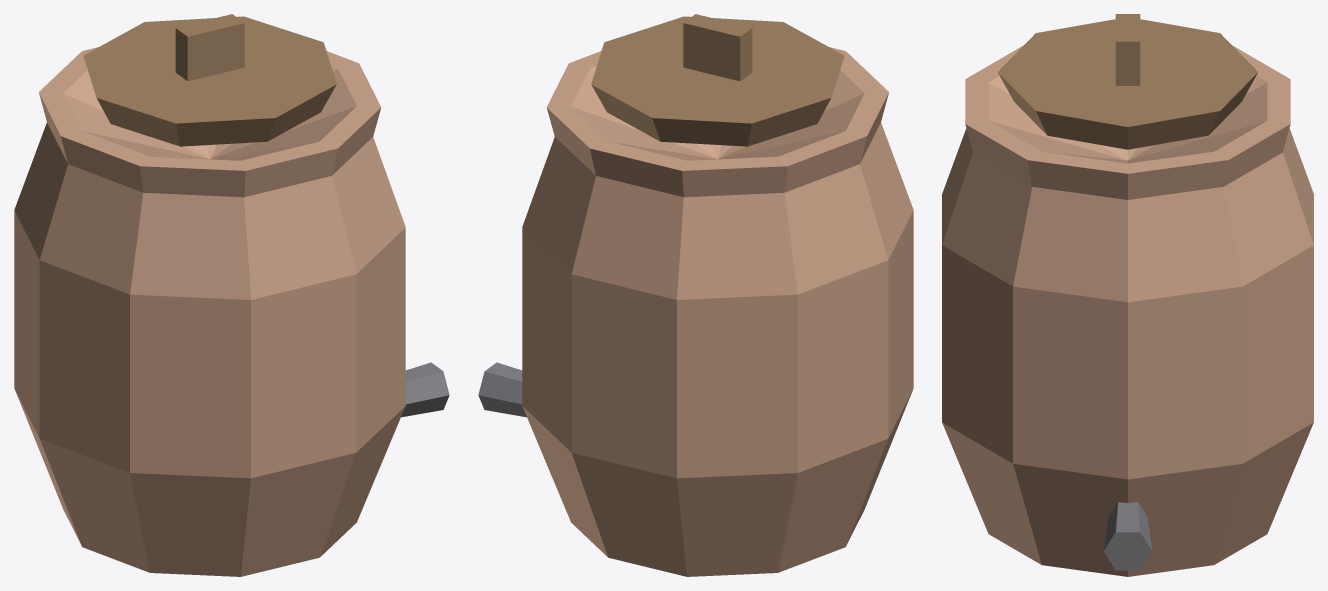
Rendered from prop-lye-pot.fbx.
3 renders of one model, left to right at view 1: azimuth 30°, elevation 25°; view 2: azimuth 150°, elevation 25°; view 3: azimuth 270°, elevation 25°, orthographic.
Visible parts, largest first — view 1: prop-lye-pot; view 2: prop-lye-pot; view 3: prop-lye-pot.
Part boxes in pixels (x1,y1,x2,y2): prop-lye-pot: (14, 14, 449, 576); prop-lye-pot: (478, 14, 913, 576); prop-lye-pot: (942, 14, 1313, 576).
Bounding box in the file's own units: 28 × 33 × 22.83.
